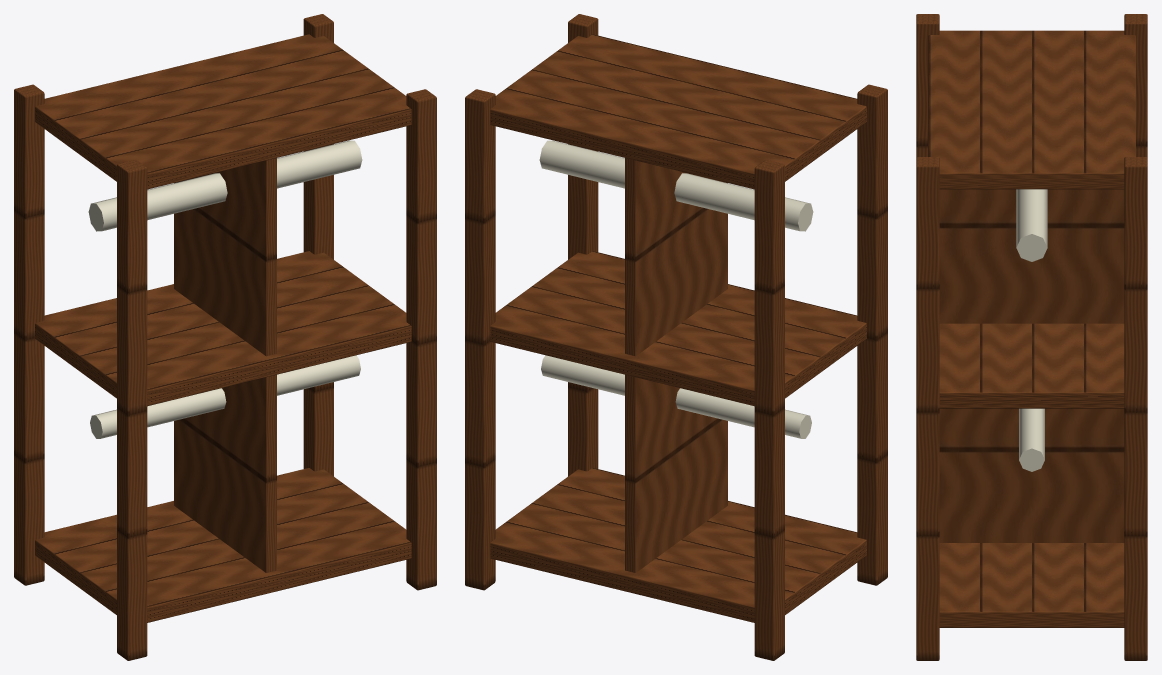
File: research-and-crafting-progression-blueprint-roll-rack-b0abc7a1__2865.glb
3 renders of one model, left to right at view 1: azimuth 30°, elevation 25°; view 2: azimuth 150°, elevation 25°; view 3: azimuth 270°, elevation 25°, orthographic.
Parts seen in each view (by area): view 1: blueprint-roll-rack; view 2: blueprint-roll-rack; view 3: blueprint-roll-rack.
Boxes of the visible parts, x1=… form: blueprint-roll-rack: x1=14, y1=14, x2=436, y2=660; blueprint-roll-rack: x1=465, y1=14, x2=887, y2=660; blueprint-roll-rack: x1=916, y1=14, x2=1147, y2=660.
Bounding box in the file's own units: 0.695 × 1.05 × 0.4449.
2 materials, 1 textured.
